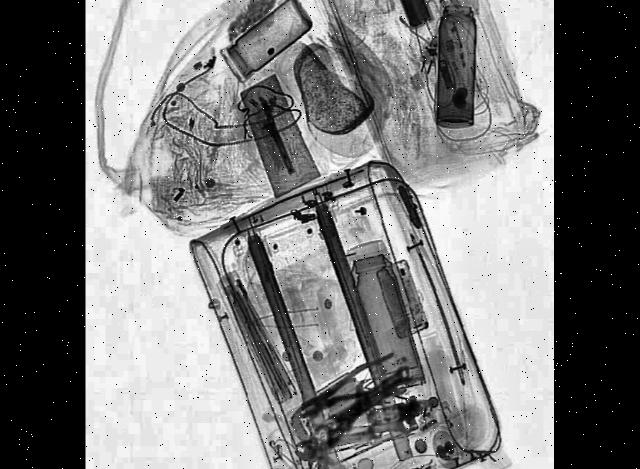Pliers: (294, 346, 400, 432)
Wrench: (324, 357, 416, 448)
